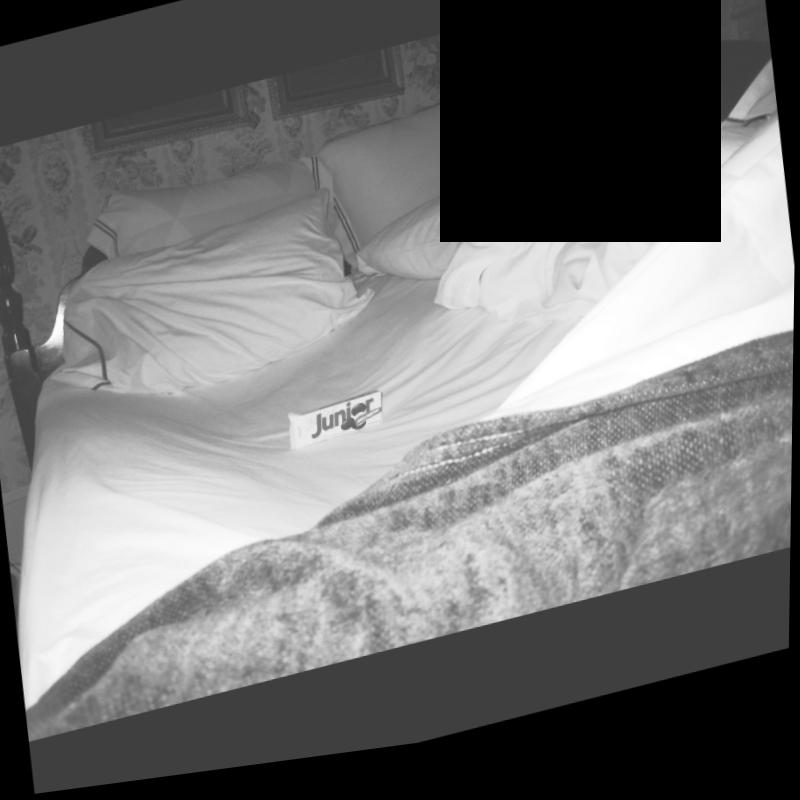pillow: (40, 176, 378, 409), (335, 140, 658, 329), (328, 94, 536, 274), (77, 143, 356, 269)
